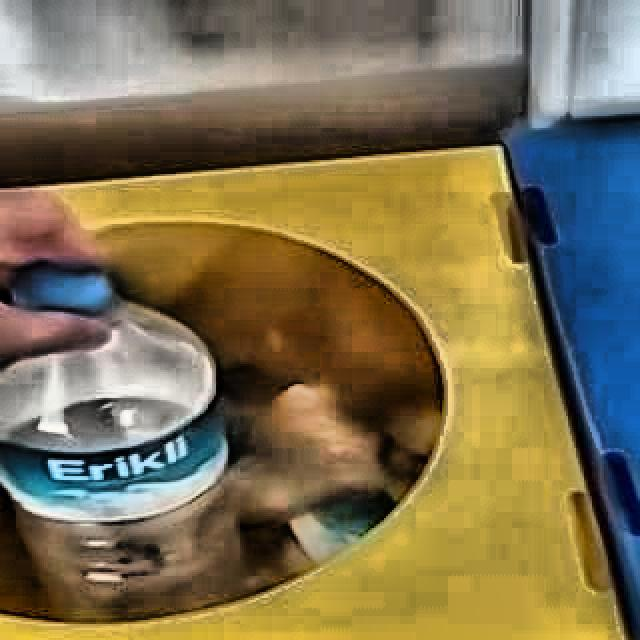plastic: (0, 263, 245, 623)
